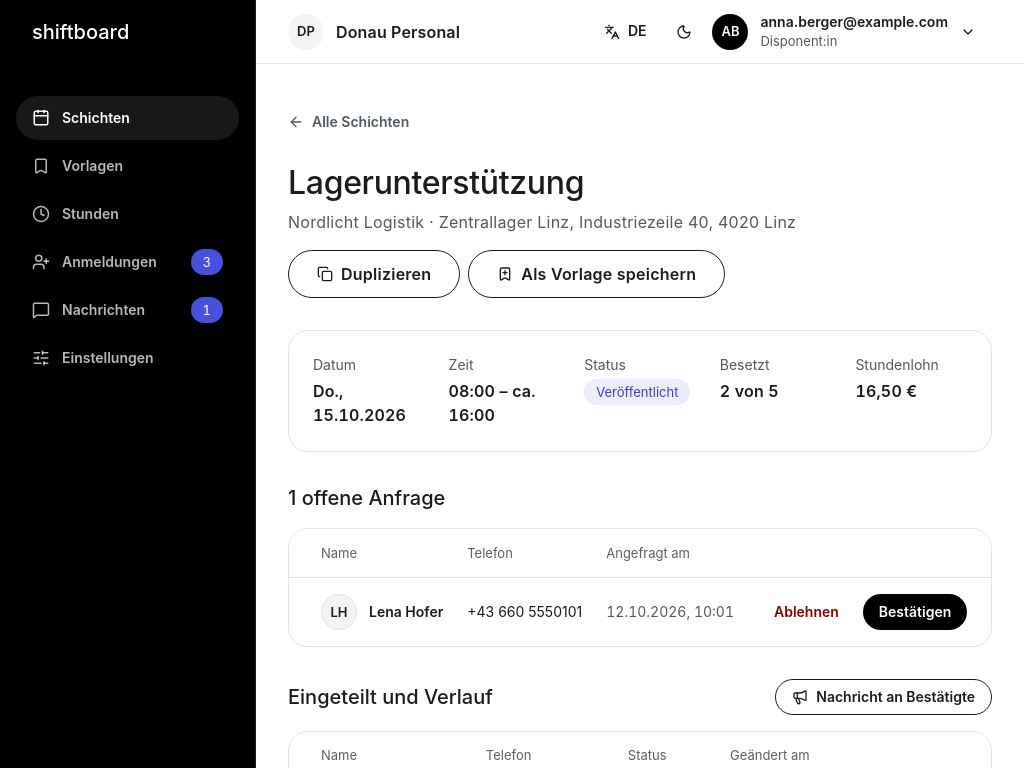
shift detail › tells when a colleague decided first and refreshes the list
Click the button with aria-label "Lena Hofer bestätigen": click(915, 612) [863,594,967,630]
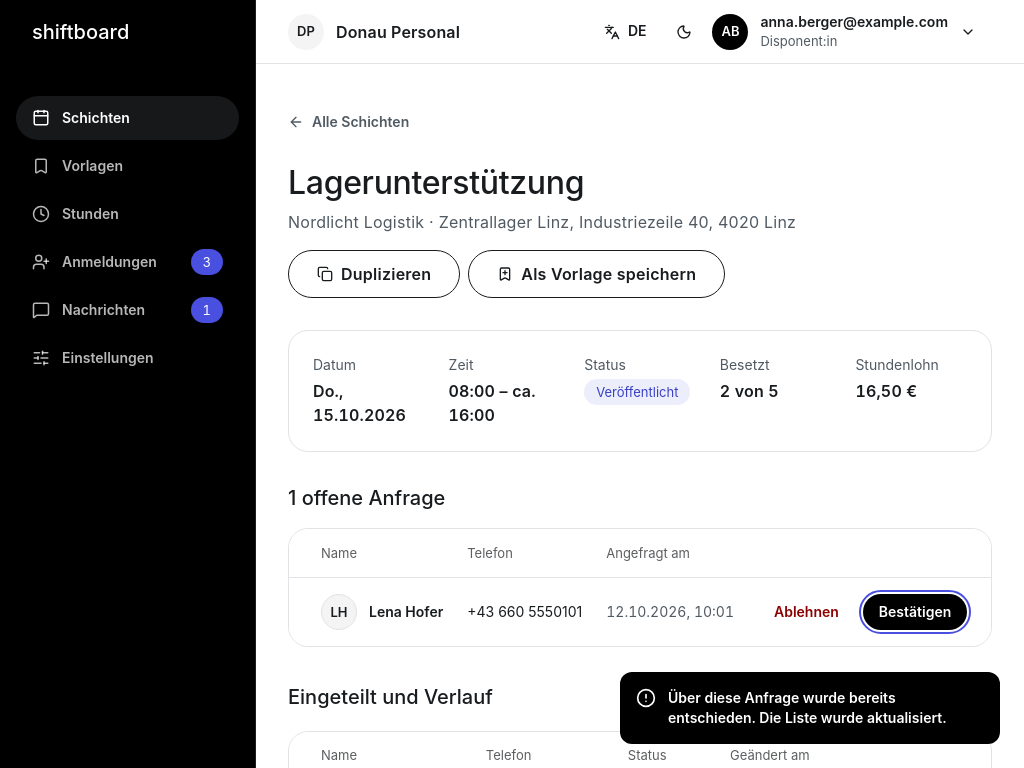
Now the text "Über diese Anfrage wurde bereits entschieden. Die Liste wurde aktualisiert." is shown, box [668,688,984,728]
